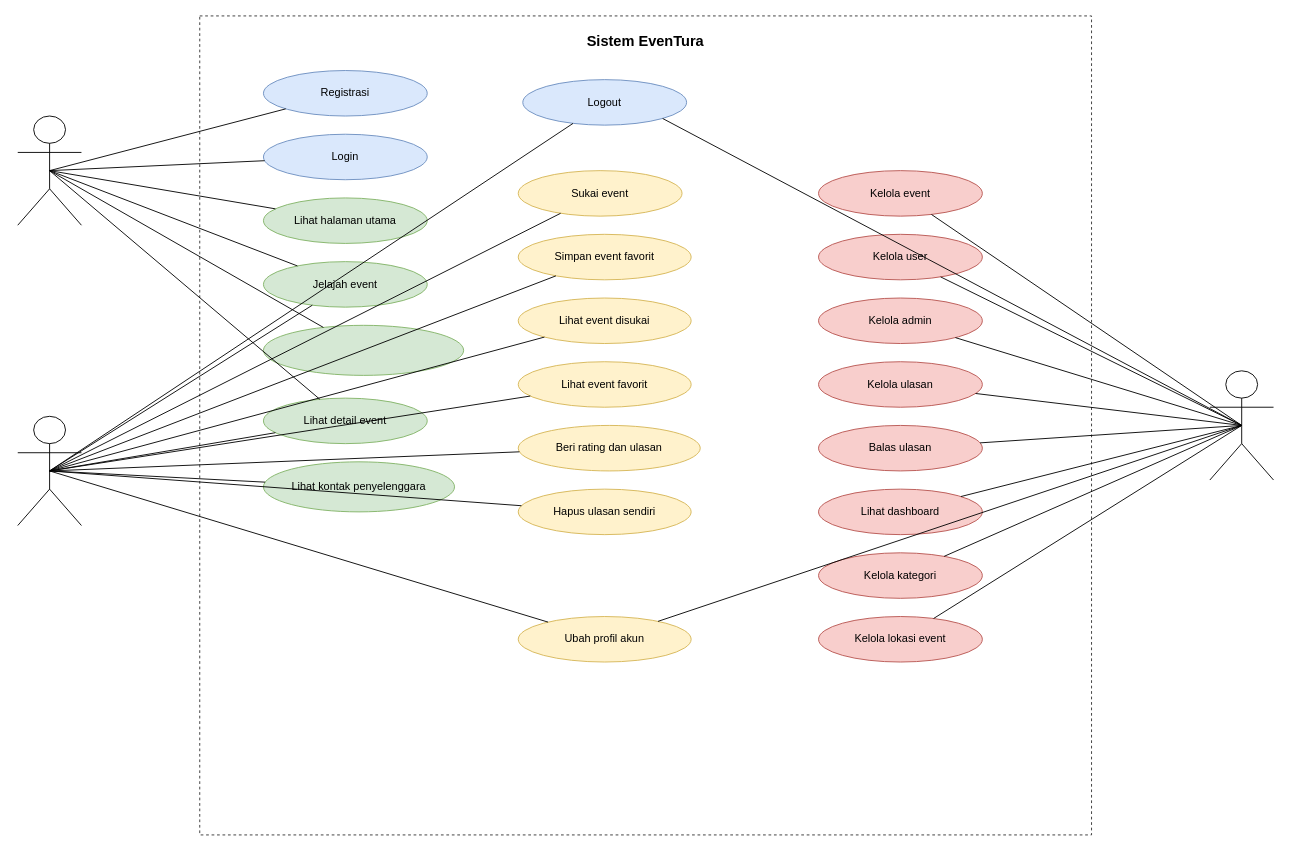
The diagram is 1289 pixels wide and 851 high, and some of its shapes have lost their labels. The shapes that lost their labels are listed below. From the top down, each one's centre as x and y in pixels, then its label:
At [49,170]: "Pengunjung".
At [363,349]: "Filter event berdasarkan kategori".
At [1241,425]: "Admin".
At [49,470]: "User".
